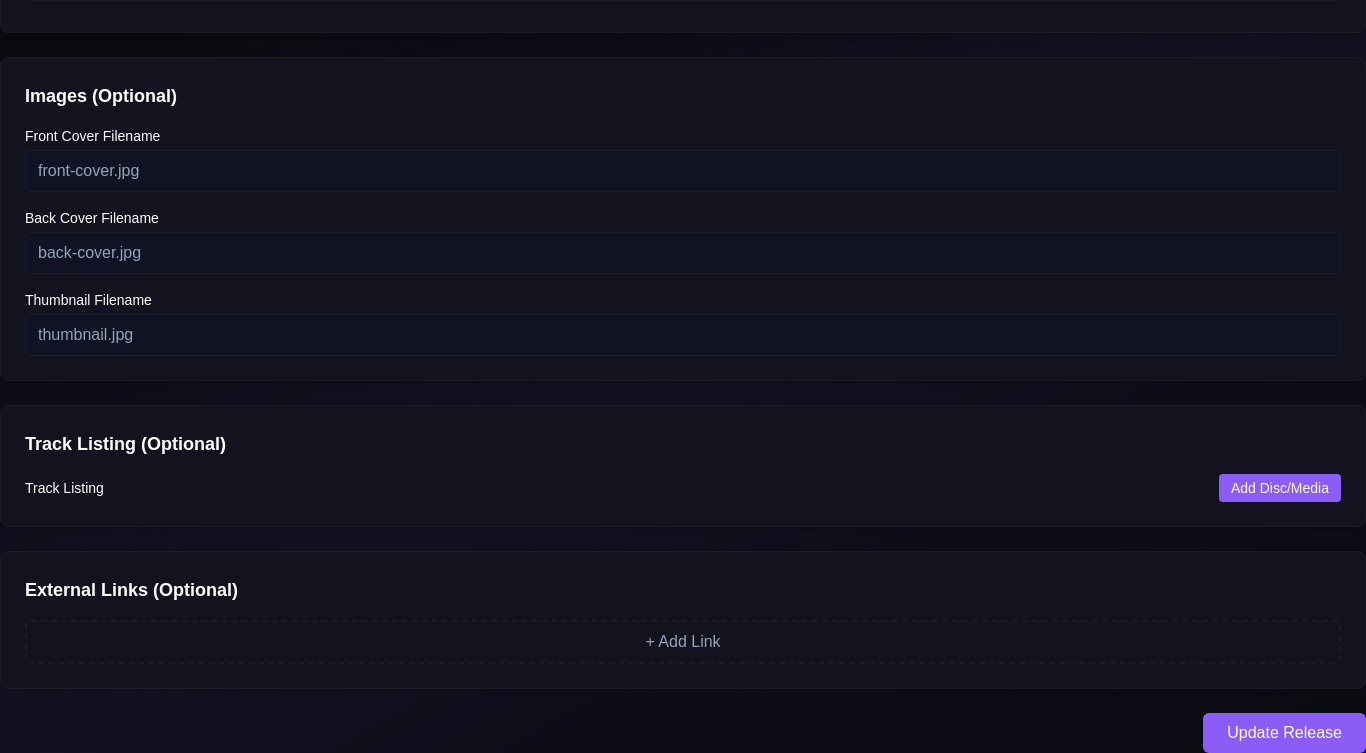
it: AddReleaseForm - Edit Mode › shows field-level error when title is empty on submit
The image size is (1366, 753).
(page scrolled)
Click the button "Update Release": [1285, 733] box [1203,713,1365,752]
(page scrolled)
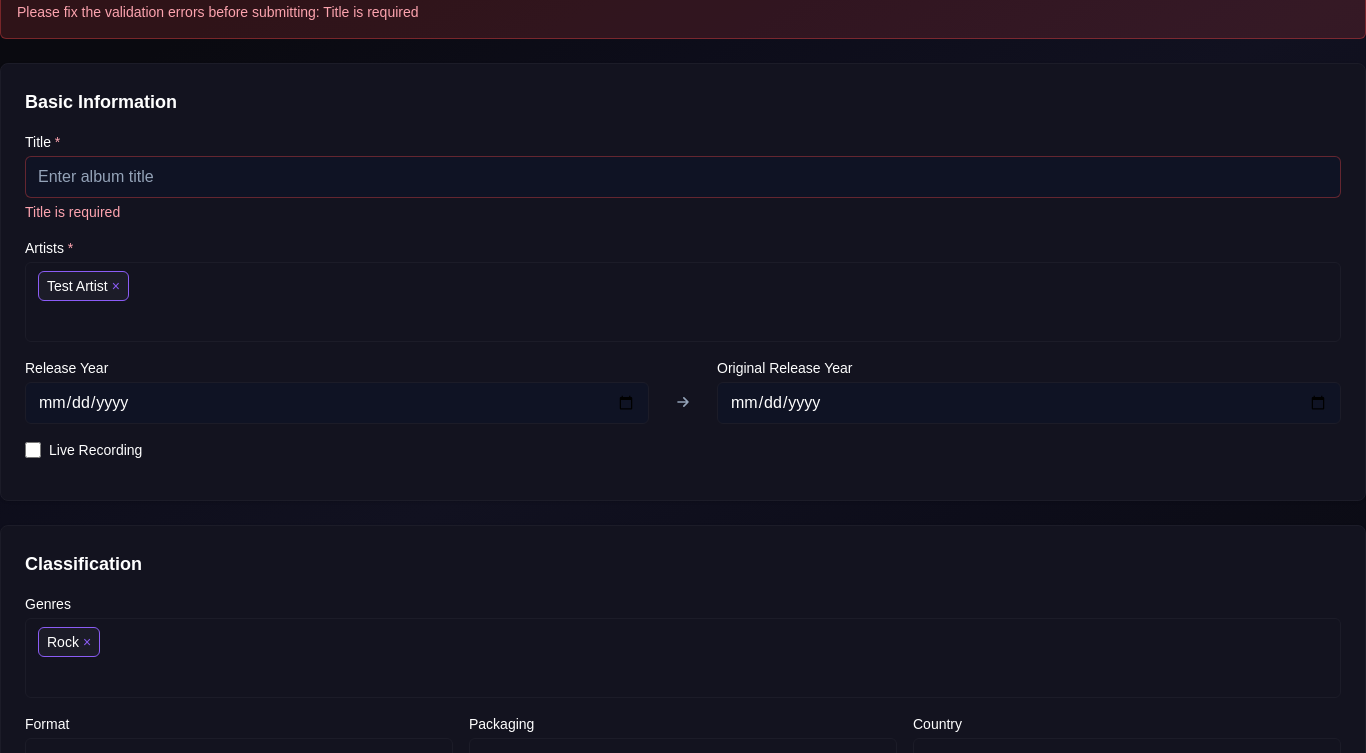
Now the message shows "Title is required", box [17,4,418,20]
Now the text "Title is required" is shown, box [25,204,120,220]
